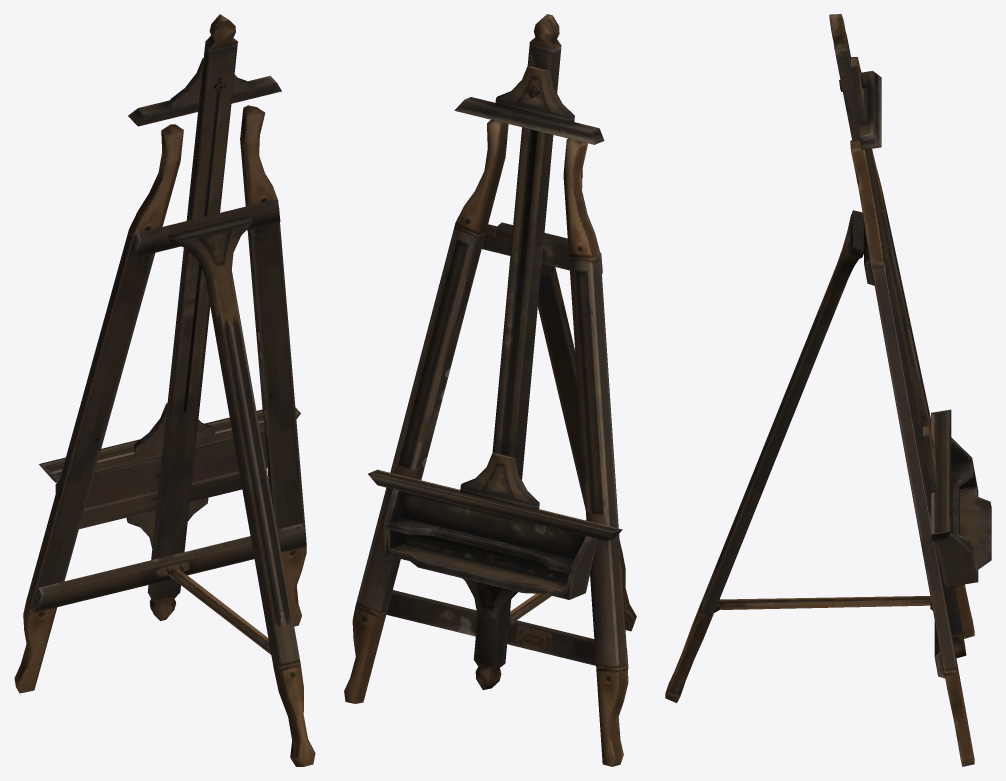
The model's file is easel.fbx.
The picture shows the model from 3 angles, left to right: view 1: azimuth 30°, elevation 25°; view 2: azimuth 150°, elevation 25°; view 3: azimuth 270°, elevation 25°; orthographic projection. The views are drawn at different scales.
Parts seen in each view (by area): view 1: Easel_01; view 2: Easel_01; view 3: Easel_01.
Boxes of the visible parts, box(x1,y1,x2,y2) form: Easel_01: box(14, 14, 315, 766); Easel_01: box(344, 14, 636, 766); Easel_01: box(665, 14, 991, 766).
Size of the model in its own units: 49.4 by 115 by 49.54.
1 material, 1 textured.
